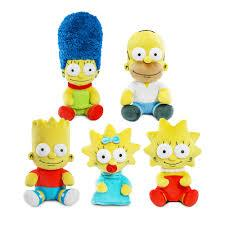Bart: (17, 114, 82, 207)
Homer: (120, 28, 182, 123)
Lisa: (136, 118, 210, 212)
Maggie: (86, 123, 136, 210)
Marge: (41, 8, 112, 123)
